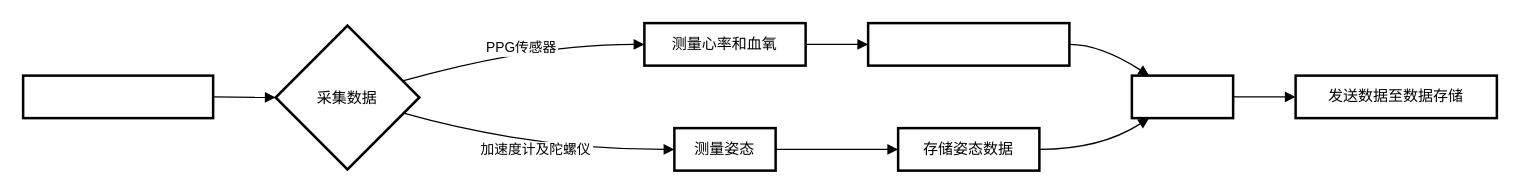
Image size: 1519x193. Some labels were removed from this diagram. Here are the shapes that lost their labels. From the top down, the box of each, then its label:
(866, 21, 1070, 66): 存储心率和血氧数据
(21, 74, 214, 119): Start 数据采集任务
(1130, 74, 1234, 119): 数据处理
